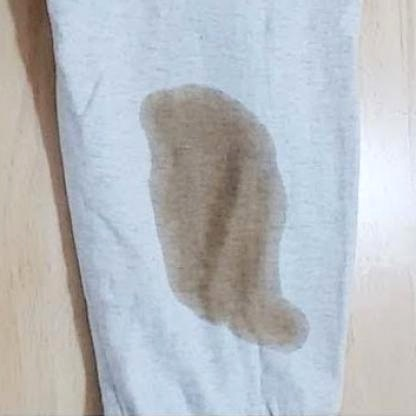coffee: (155, 98, 284, 308)
